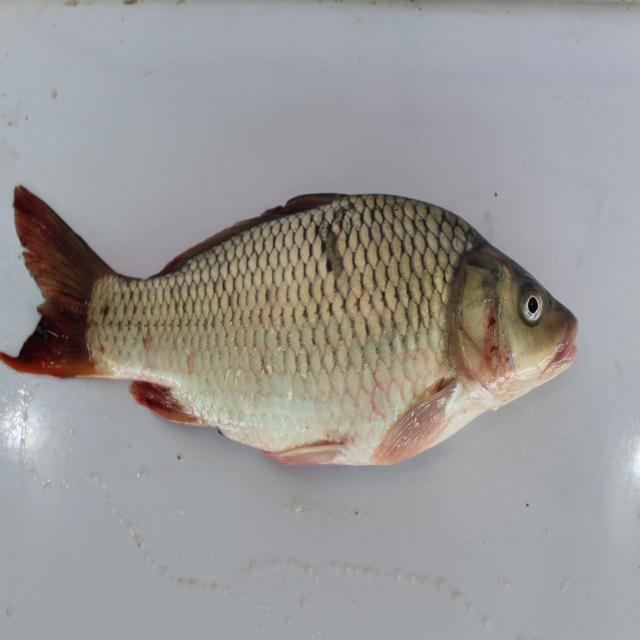CommonCarp: (8, 170, 586, 480)
